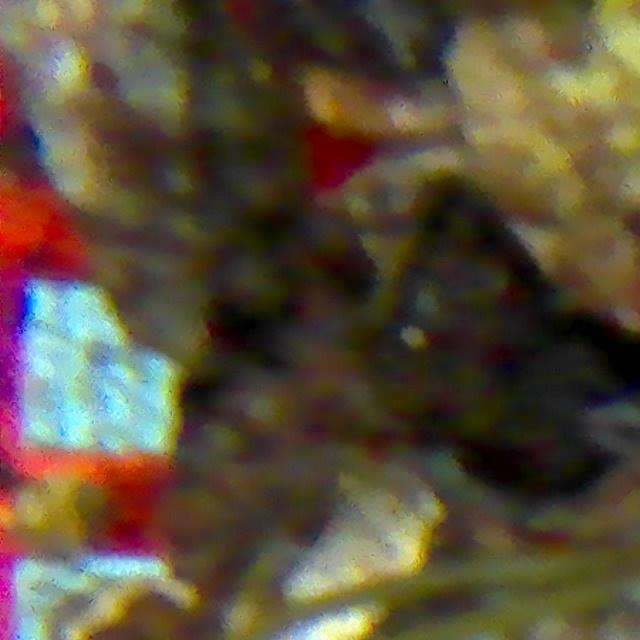SeaGrape: (125, 590, 189, 640)
